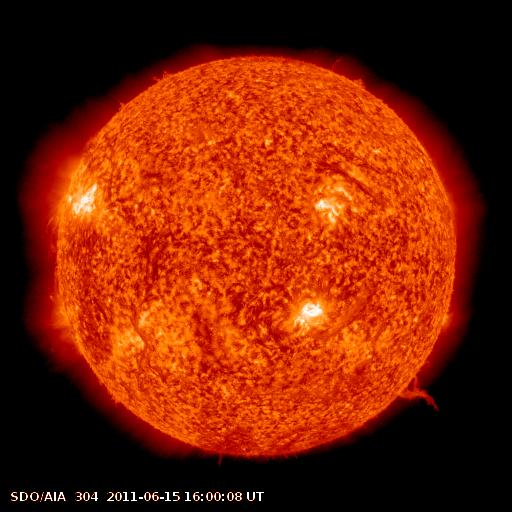prominence: (394, 368, 446, 416), (343, 68, 377, 99), (143, 60, 173, 91)
